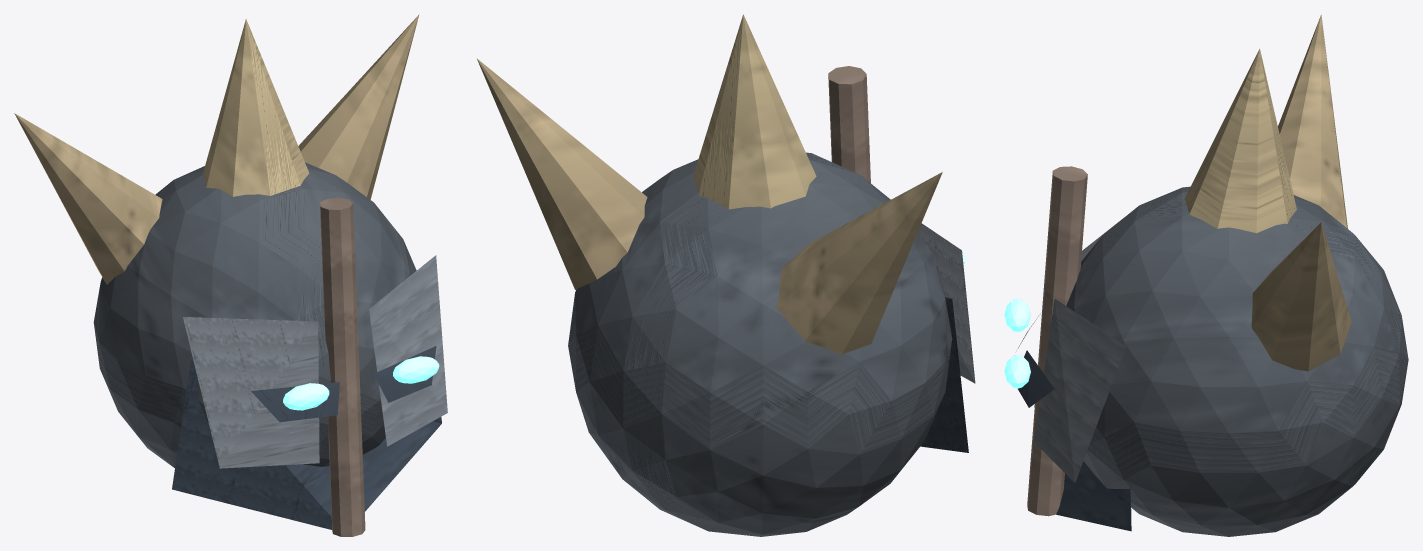
Rendered from hero_helmet.glb.
The picture shows the model from 3 angles, left to right: view 1: azimuth 30°, elevation 25°; view 2: azimuth 150°, elevation 25°; view 3: azimuth 270°, elevation 25°; orthographic projection. The views are drawn at different scales.
Parts seen in each view (by area): view 1: iron, steel, gold, blackiron, bronze, brightgold, glowcyan; view 2: iron, gold, brightgold, bronze, steel, blackiron; view 3: iron, gold, brightgold, steel, bronze, blackiron, glowcyan.
Part boxes in pixels (<box>): iron: <box>93,162,416,467</box>; steel: <box>183,255,447,468</box>; gold: <box>14,14,419,284</box>; blackiron: <box>172,346,441,529</box>; bronze: <box>320,197,365,536</box>; brightgold: <box>203,19,309,196</box>; glowcyan: <box>283,356,439,410</box>; iron: <box>568,152,952,536</box>; gold: <box>477,58,942,354</box>; brightgold: <box>693,14,816,209</box>; bronze: <box>828,66,870,182</box>; steel: <box>917,223,975,383</box>; blackiron: <box>920,297,968,452</box>; iron: <box>1066,186,1408,536</box>; gold: <box>1251,14,1351,371</box>; brightgold: <box>1184,48,1296,233</box>; steel: <box>1034,219,1126,482</box>; bronze: <box>1027,166,1087,516</box>; blackiron: <box>1018,313,1131,531</box>; glowcyan: <box>1004,298,1030,388</box>.
Size of the model in its own units: 0.96 by 1.02 by 0.788.
Materials: 7 (7 with a texture image).
